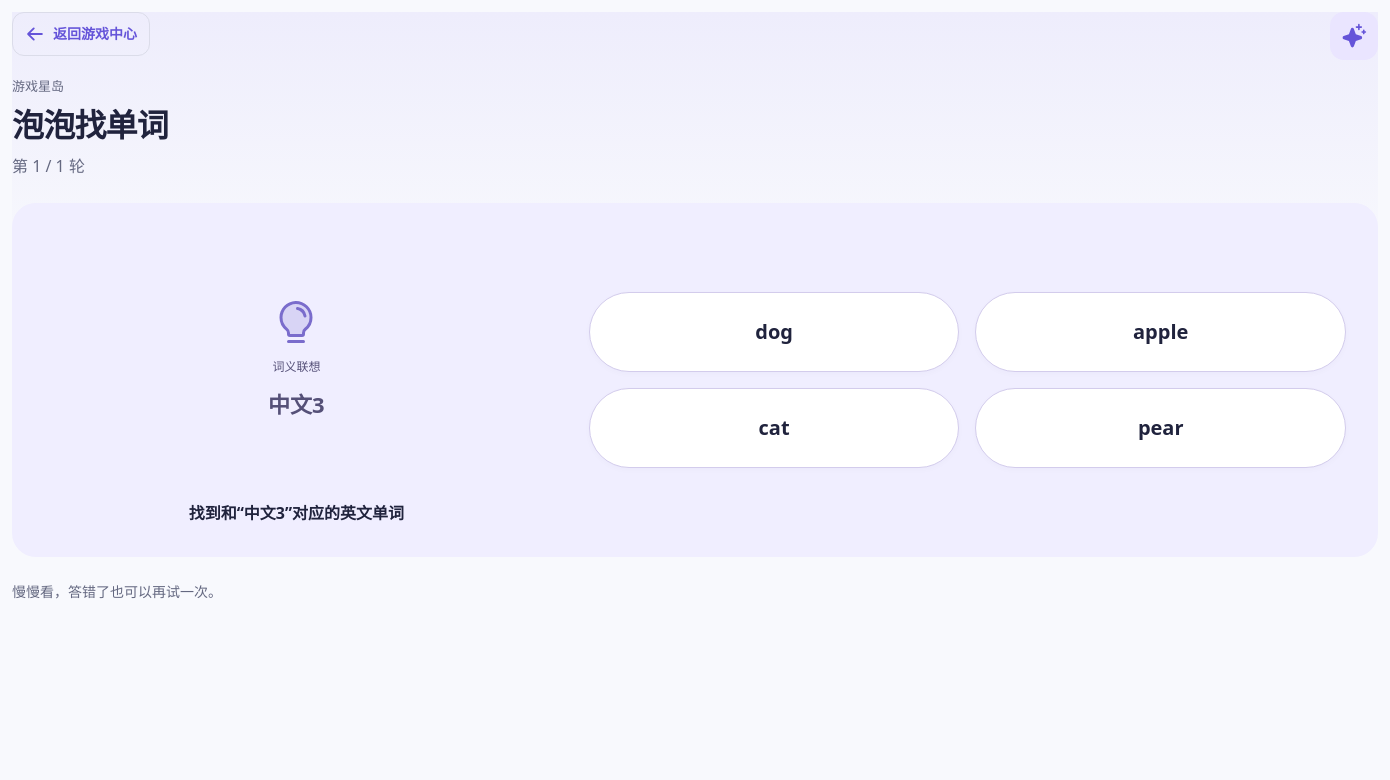
Scenario: BubbleMatchGame › records each visible answer and completes a real sourced round
What coordinates should you click on to do the following:
click the button "dog"
I would click on:
 (774, 332)
Its box is [589,292,959,372].
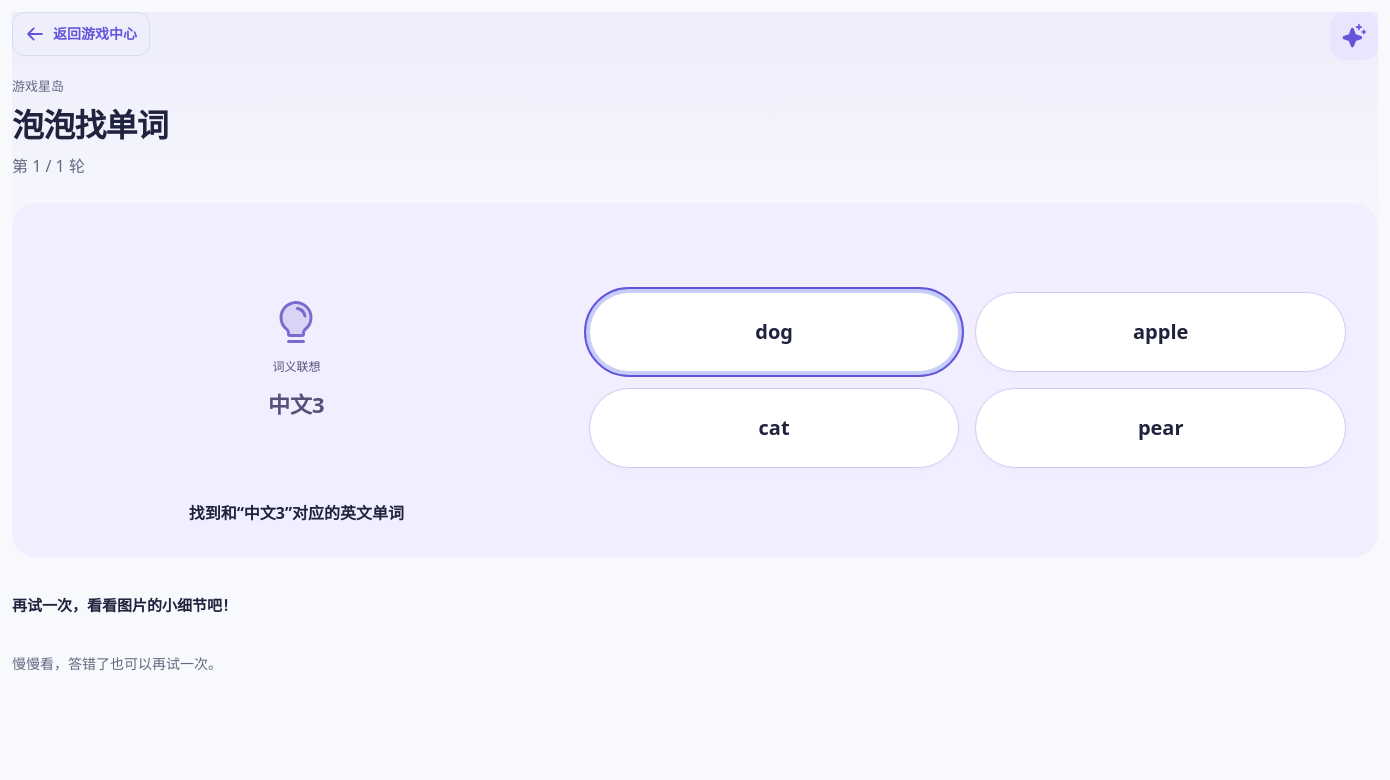
What coordinates should you click on to do the following:
click the button "cat"
I would click on:
 (774, 428)
Its box is [589,388,959,468].
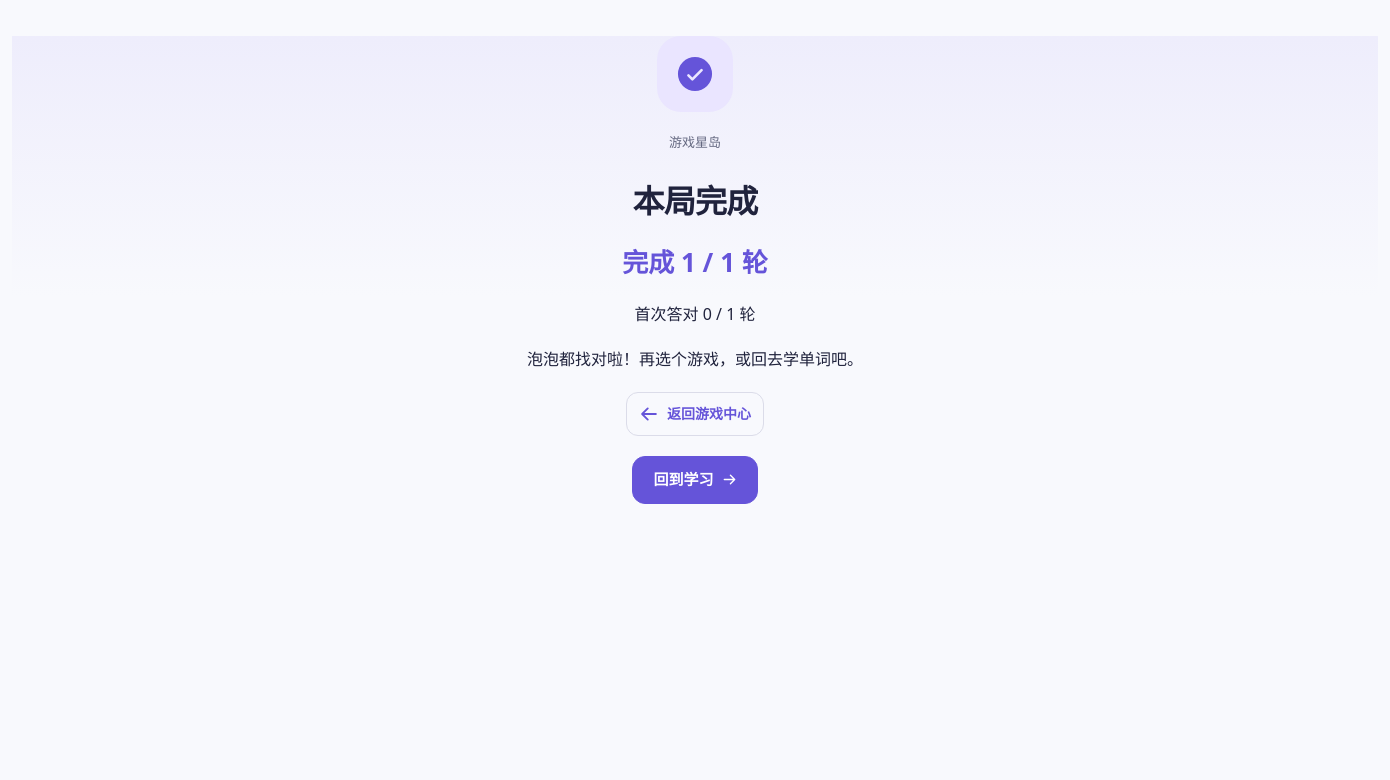
expect the heading "本局完成" is shown: met, box [633,180,757,222]
